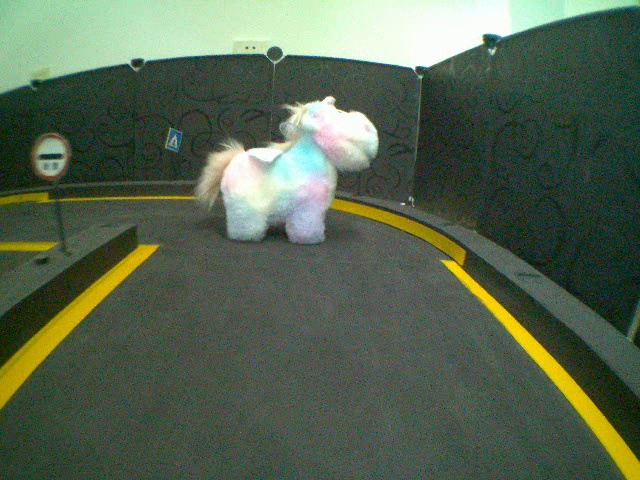unicorn: (192, 96, 371, 249)
